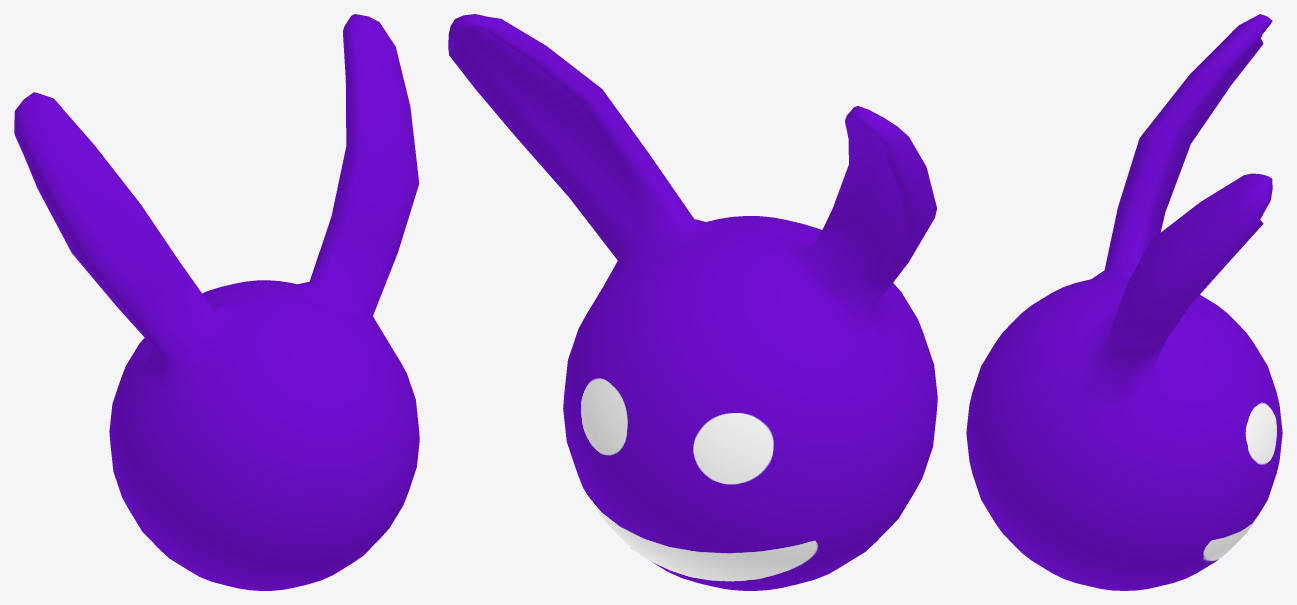
Rendered from bunny.glb.
The picture shows the model from 3 angles, left to right: view 1: azimuth 30°, elevation 25°; view 2: azimuth 150°, elevation 25°; view 3: azimuth 270°, elevation 25°; orthographic projection. The views are drawn at different scales.
Parts seen in each view (by area): view 1: bunny; view 2: bunny; view 3: bunny.
Boxes of the visible parts, <box> form: bunny: <box>14,14,419,590</box>; bunny: <box>448,14,937,590</box>; bunny: <box>966,14,1282,590</box>.
Bounding box in the file's own units: 0.6888 × 0.8402 × 0.5.
1 material, 1 textured.
